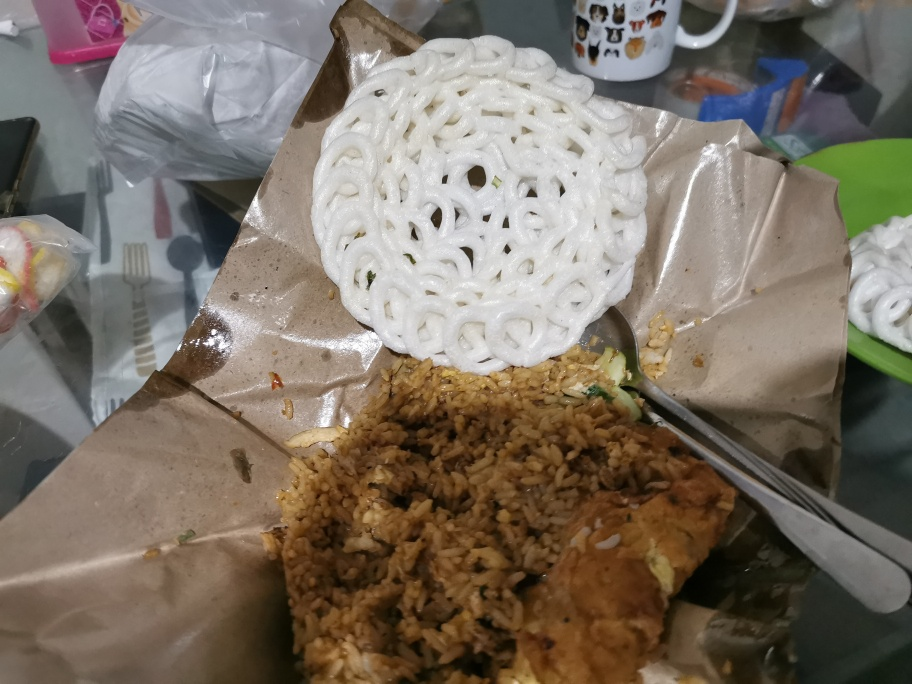kerupuk: (313, 38, 648, 364)
nasi goreng: (274, 364, 738, 684)
